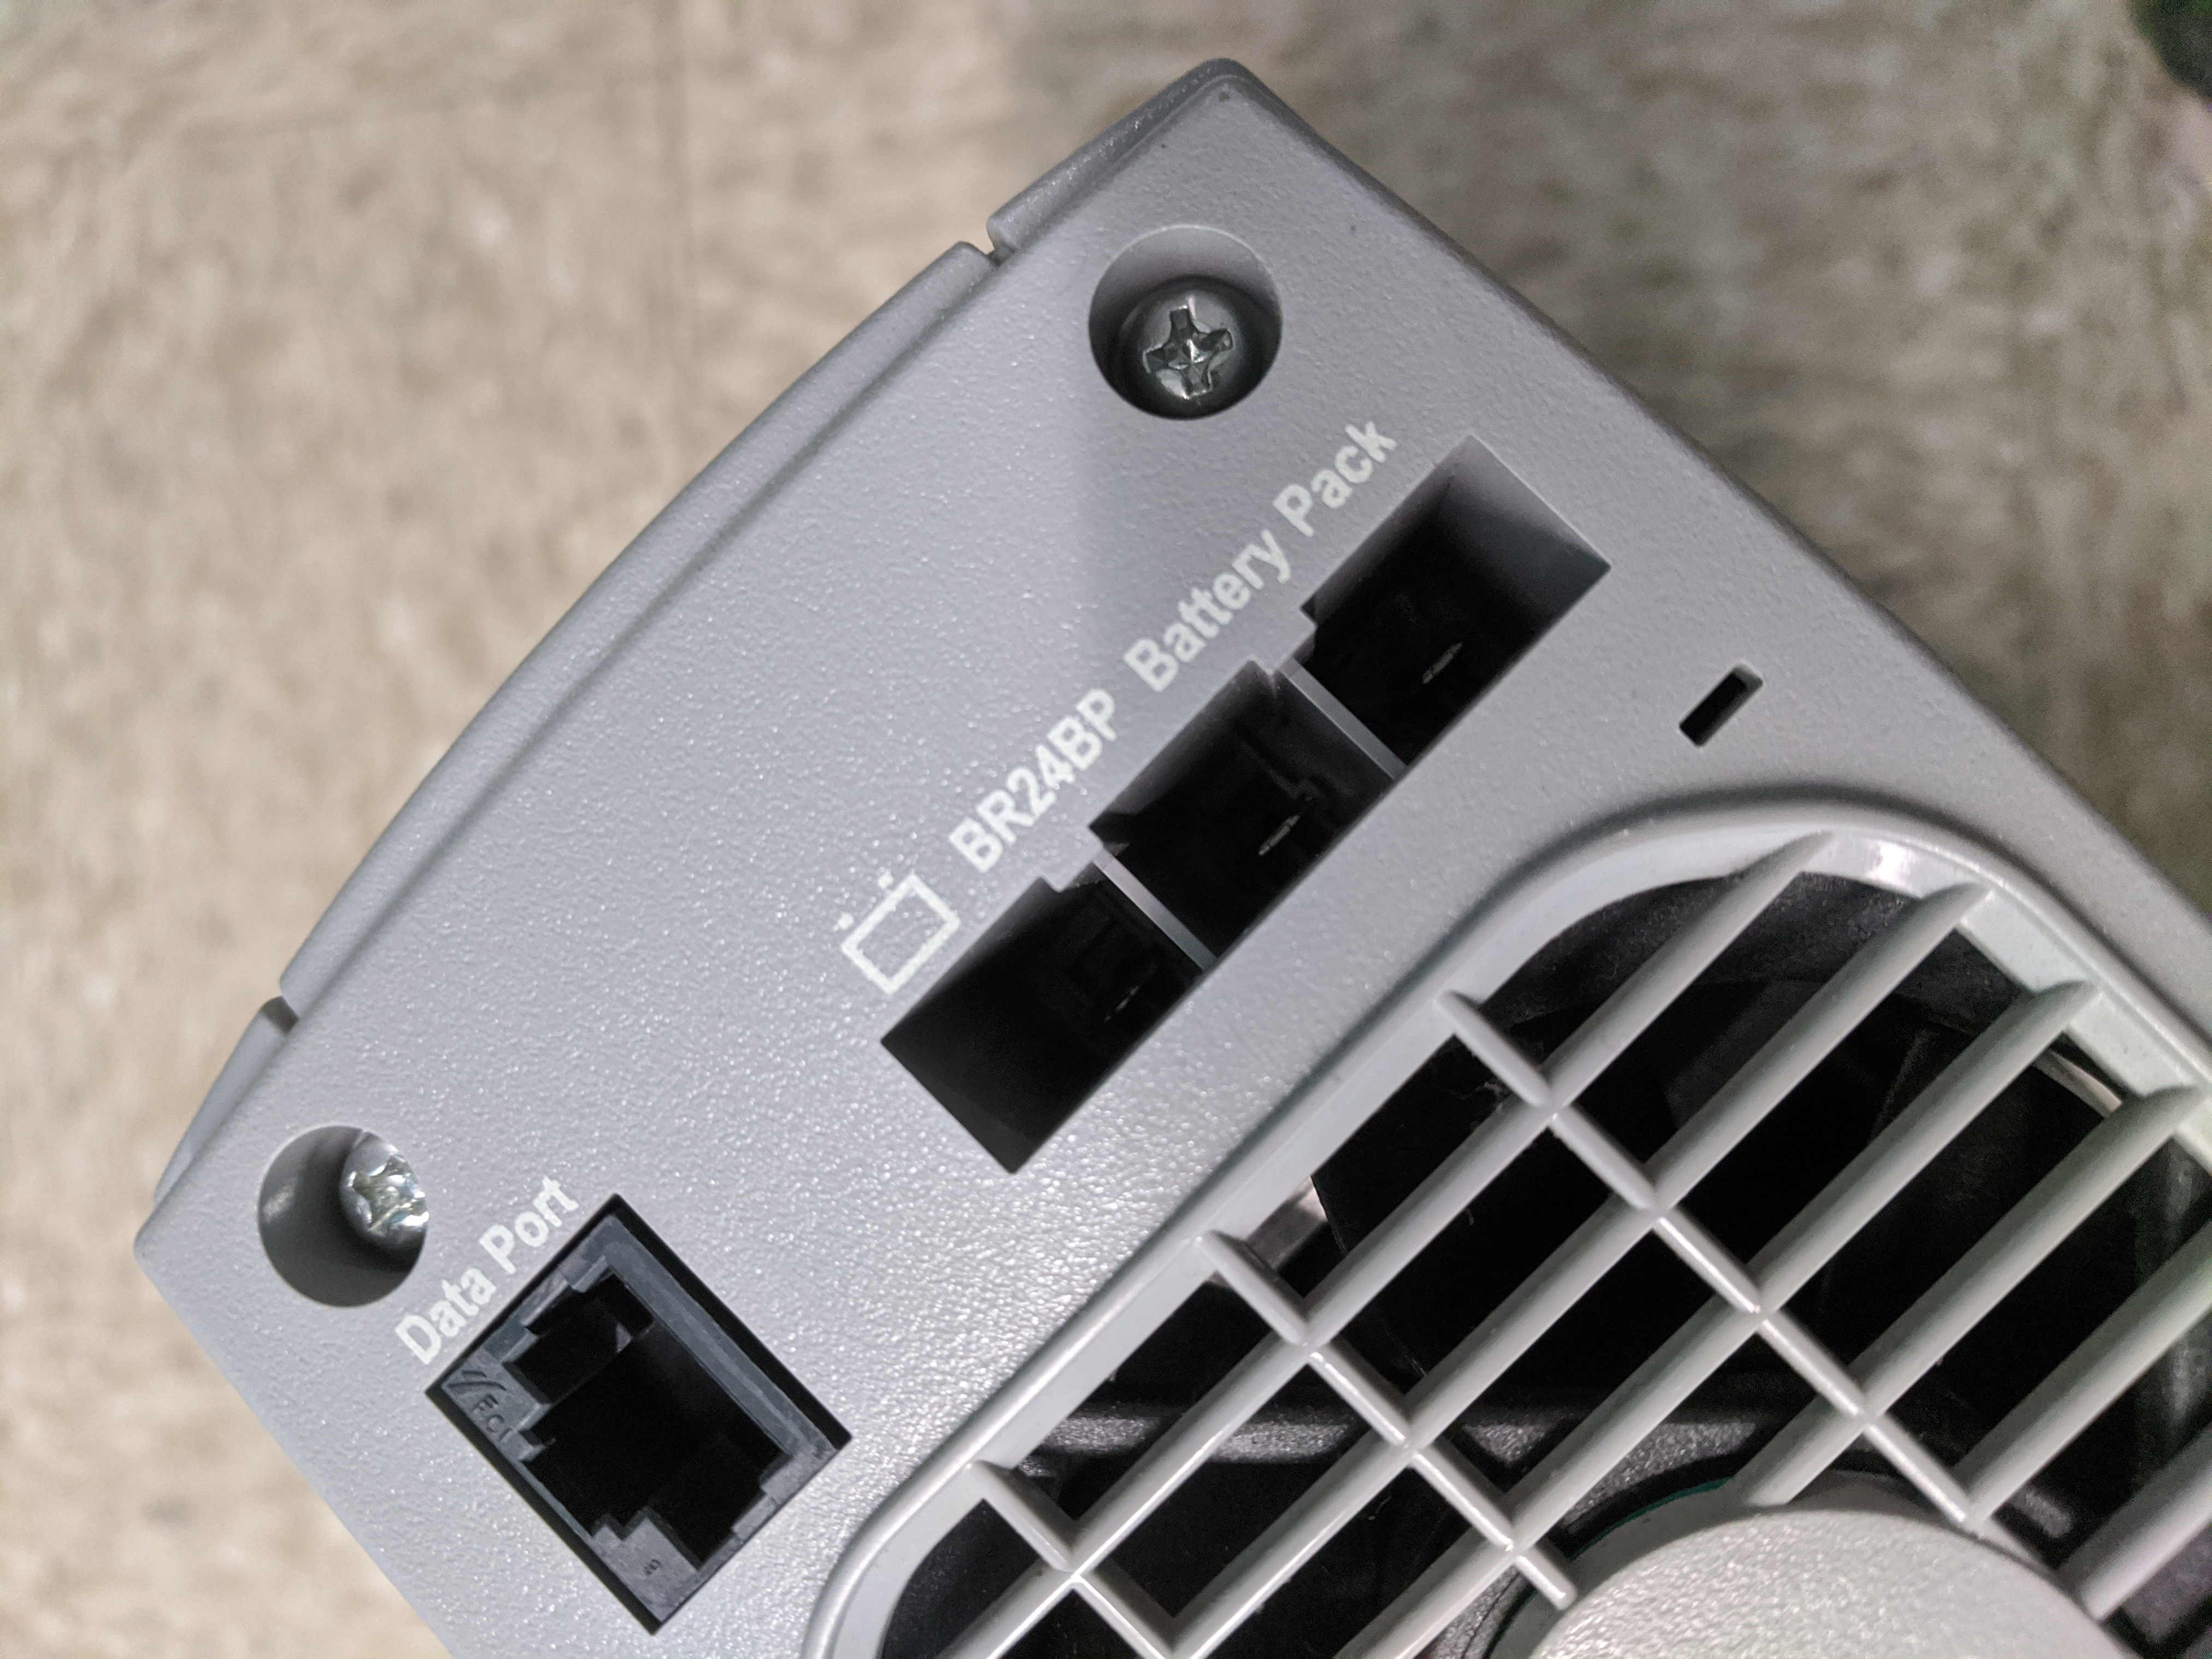cross_recessed_screw: (1096, 258, 1285, 416), (279, 1115, 458, 1263)
